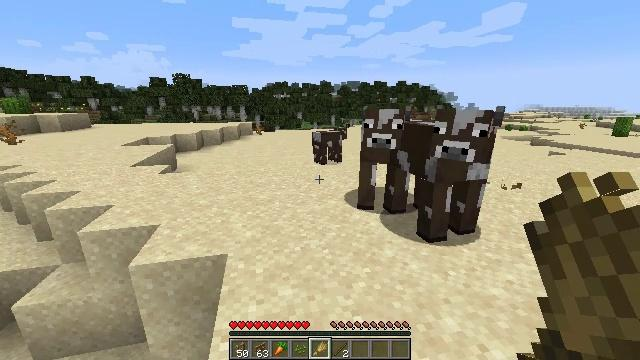cow: (406, 105, 504, 239), (360, 108, 408, 214), (311, 126, 346, 162)
